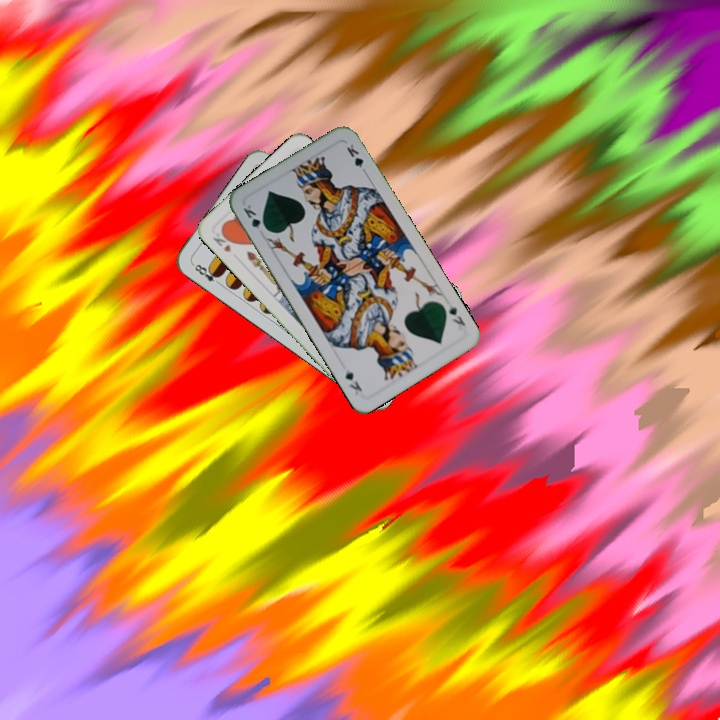E8: (189, 259, 224, 288)
GK: (239, 201, 270, 234), (442, 297, 468, 329)
HK: (209, 227, 236, 255)
